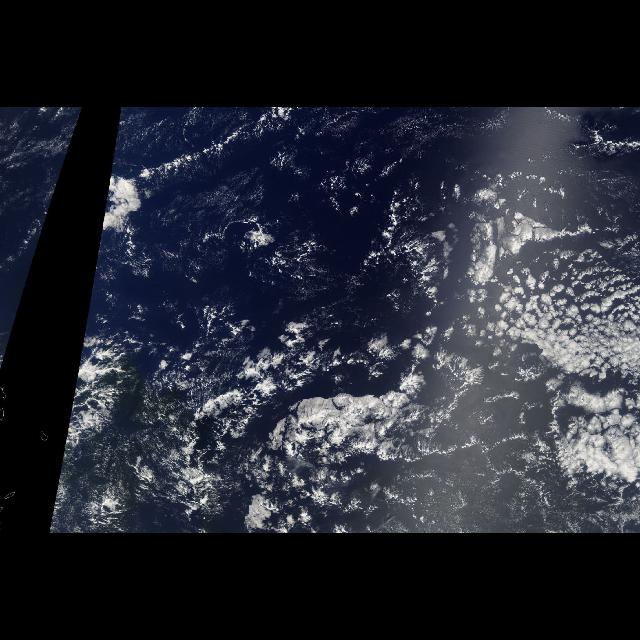Flower: (190, 371, 464, 502), (474, 214, 640, 372), (536, 380, 640, 504)
Gravel: (46, 322, 444, 532)
Sugar: (98, 111, 326, 299), (370, 455, 640, 533)
